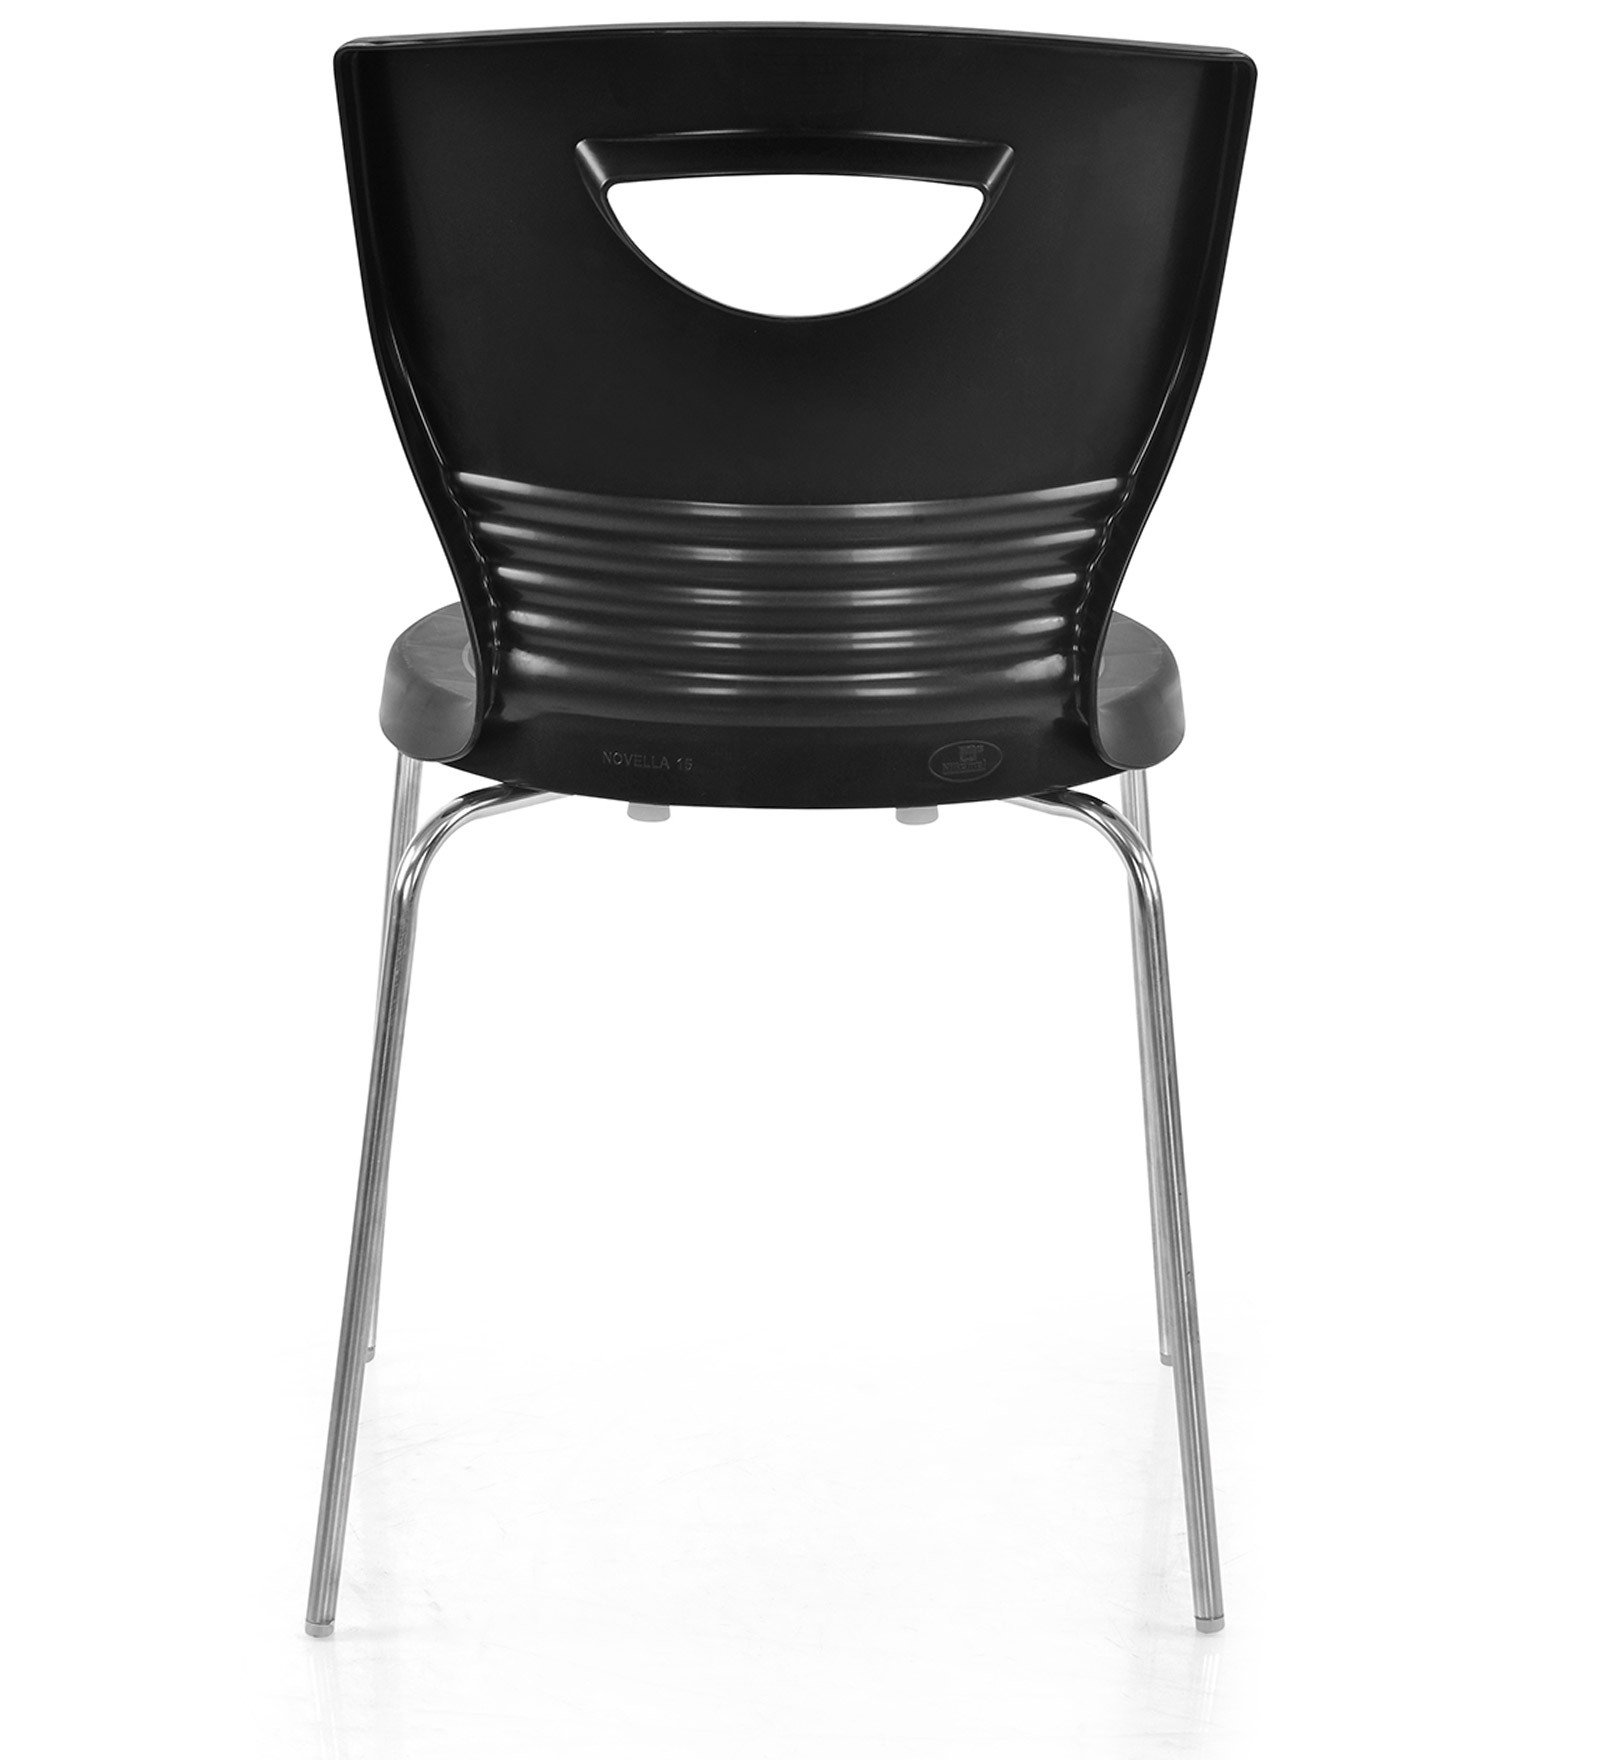Novella Series - 15 (Set of 2) Chairs in Black Color by Nilkamal: (311, 18, 1260, 1640)
